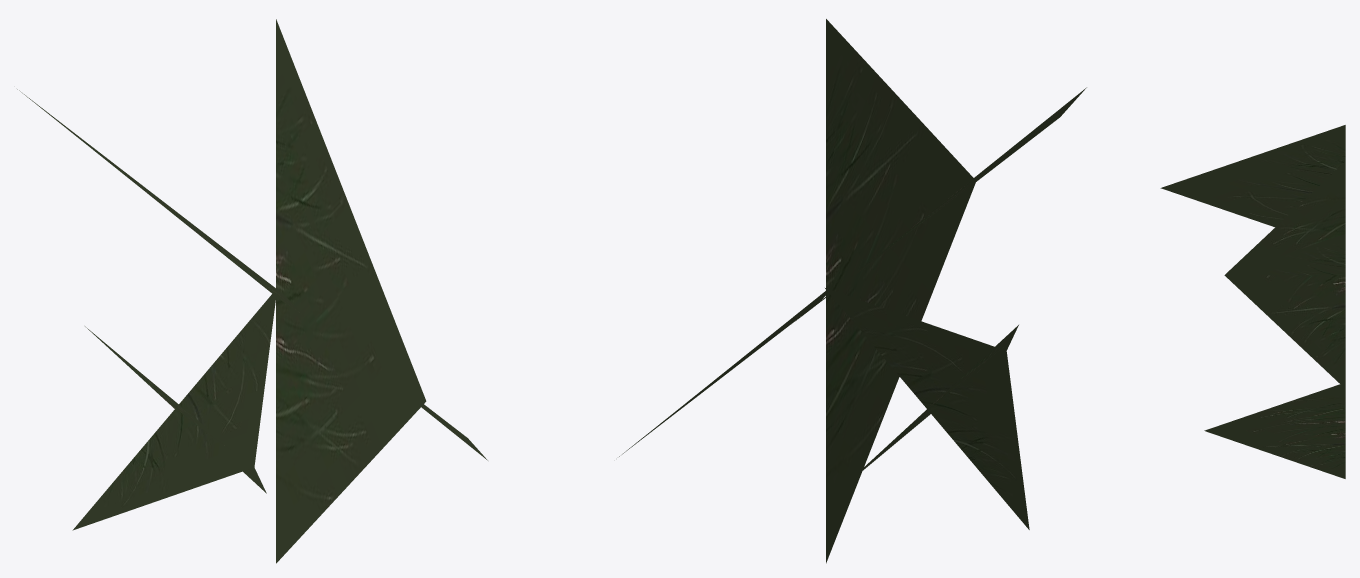
Rendered from brush_newgrass_squareclumpshort.glb.
3 renders of one model, left to right at view 1: azimuth 30°, elevation 25°; view 2: azimuth 150°, elevation 25°; view 3: azimuth 270°, elevation 25°, orthographic. The views are drawn at different scales.
Bounding box in the file's own units: 59.46 × 59.35 × 29.67.
Materials: 1 (1 with a texture image).
